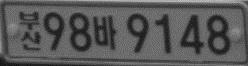1: (153, 13, 174, 56)
4: (179, 14, 204, 54)
8: (206, 14, 231, 55), (68, 12, 92, 51)
9: (125, 12, 149, 52), (42, 12, 65, 50)
바: (92, 14, 117, 51)
부산_V: (19, 10, 41, 50)
